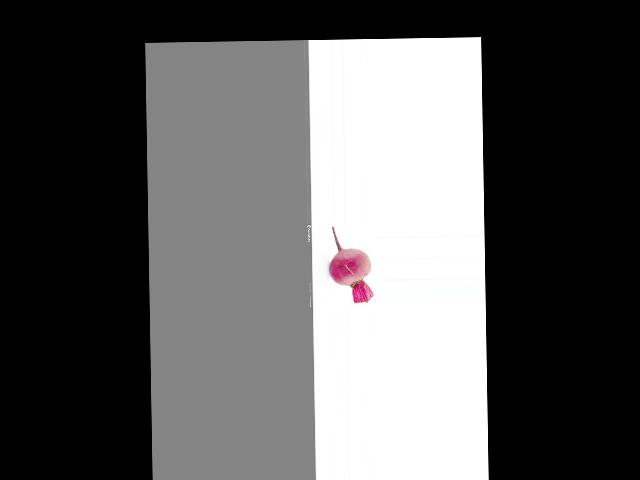beet: (328, 226, 373, 304)
